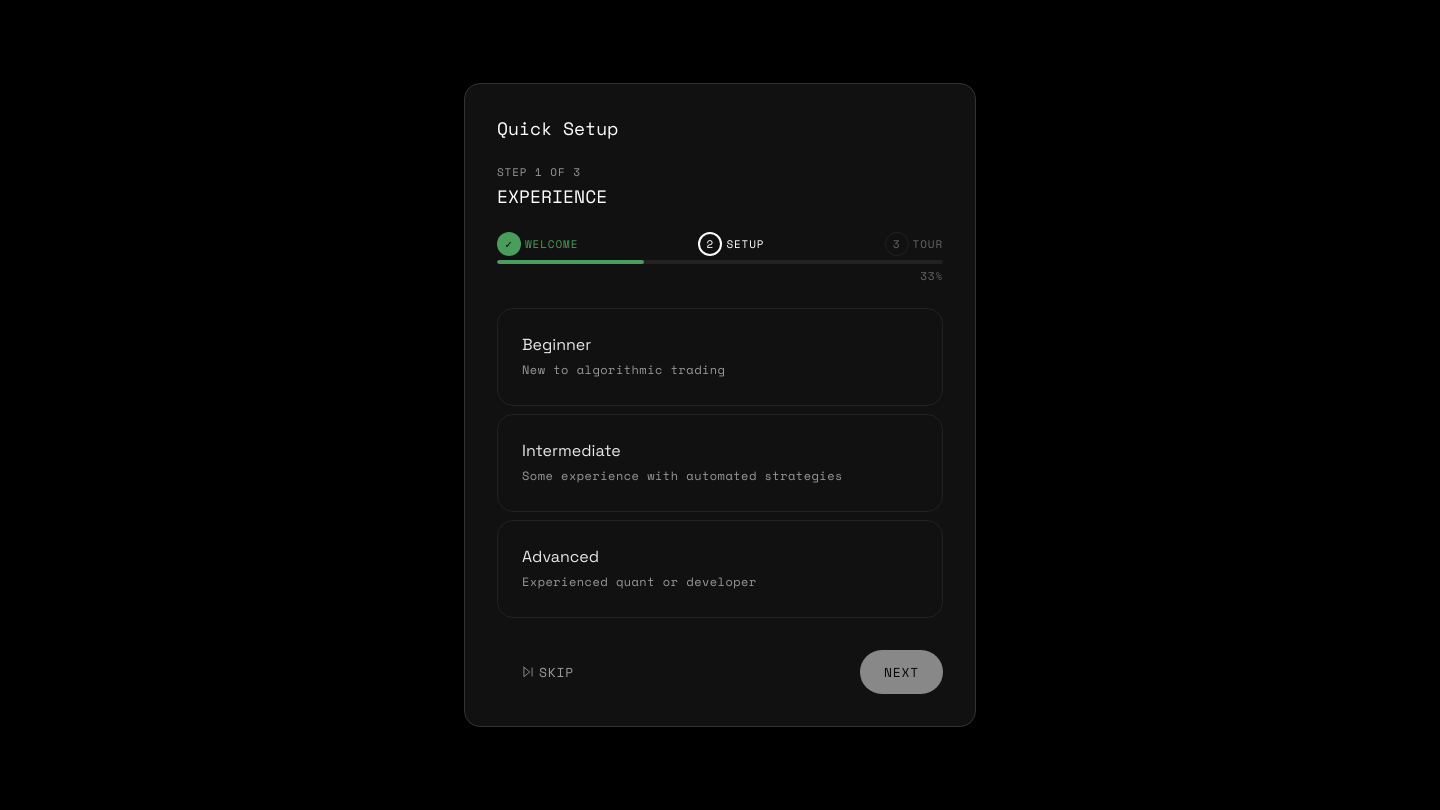
Test: SetupWizard › advances to markets step after selecting experience
Click the text "Intermediate" at coordinates (571, 450), box [522, 440, 621, 461]
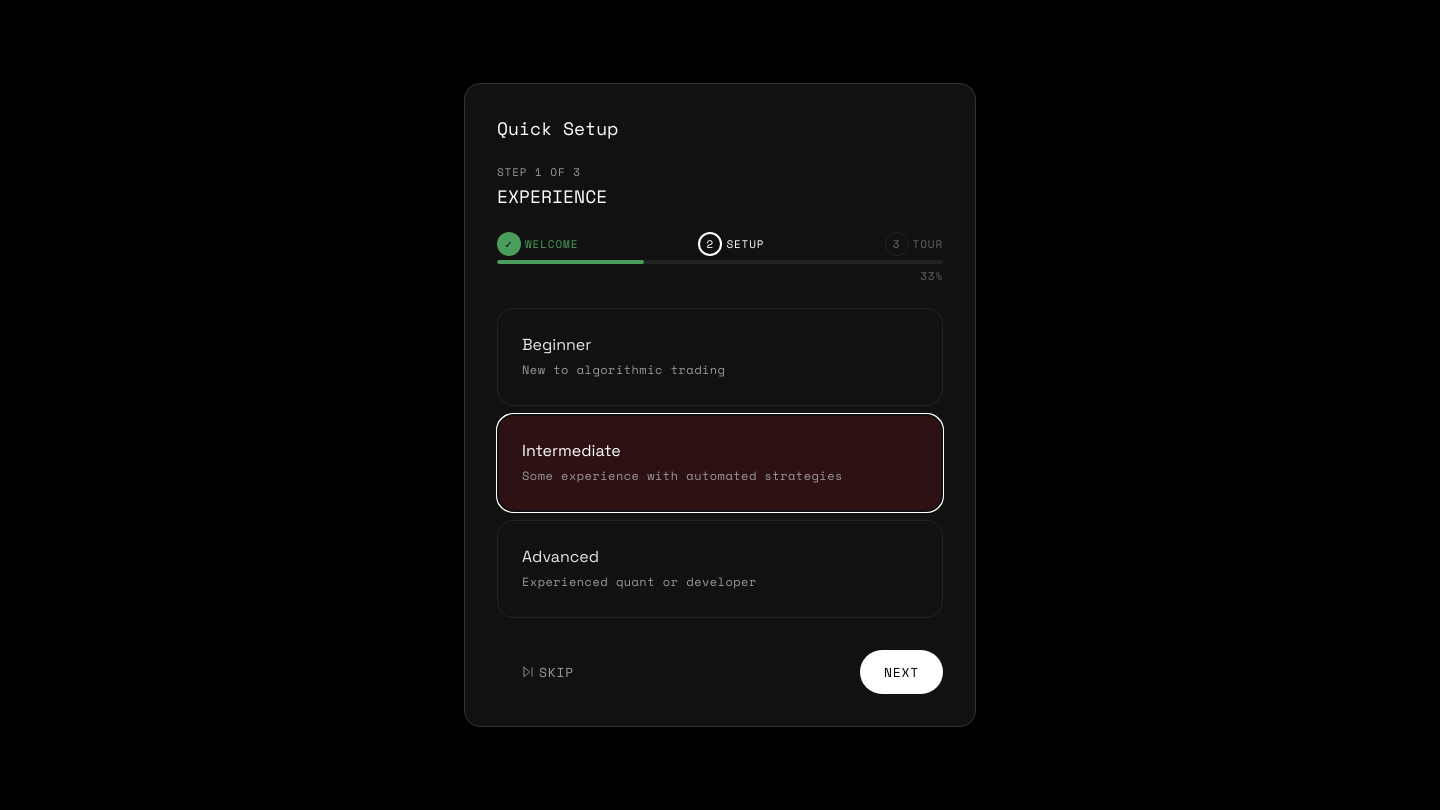
Click the button "NEXT" at coordinates (902, 672), box [860, 650, 943, 694]
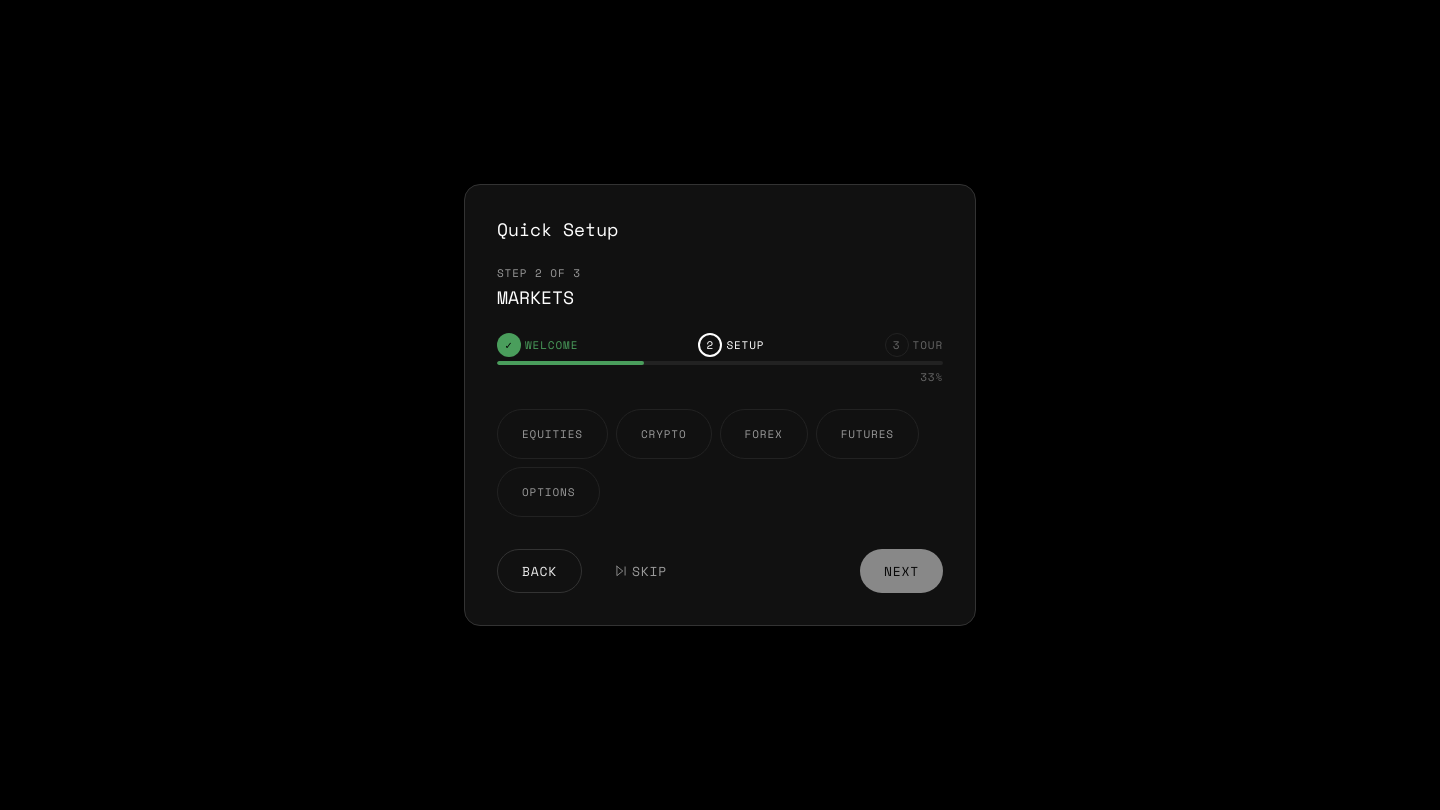
expect the button "Equities" is shown: met, box [497, 409, 608, 459]
expect the button "Crypto" is shown: met, box [616, 409, 712, 459]
